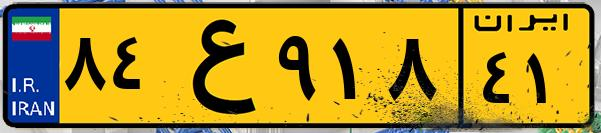1: (330, 28, 385, 110), (525, 38, 570, 115)
4: (475, 38, 525, 113), (110, 28, 158, 98)
8: (385, 28, 445, 110), (57, 26, 110, 100)
9: (270, 28, 330, 110)
ع: (158, 12, 270, 120)
